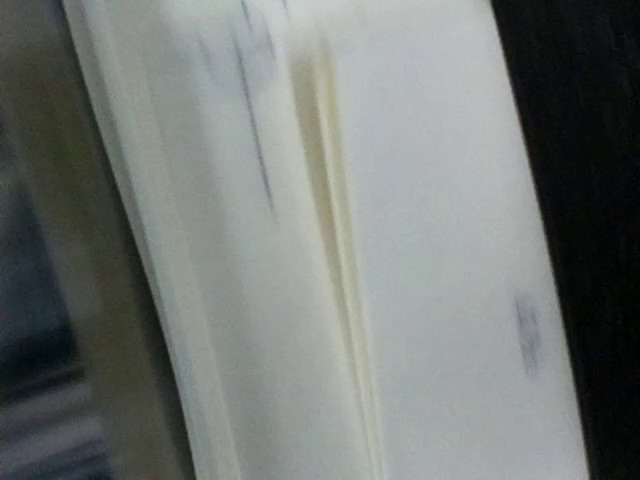not_sure: (174, 1, 283, 104)
